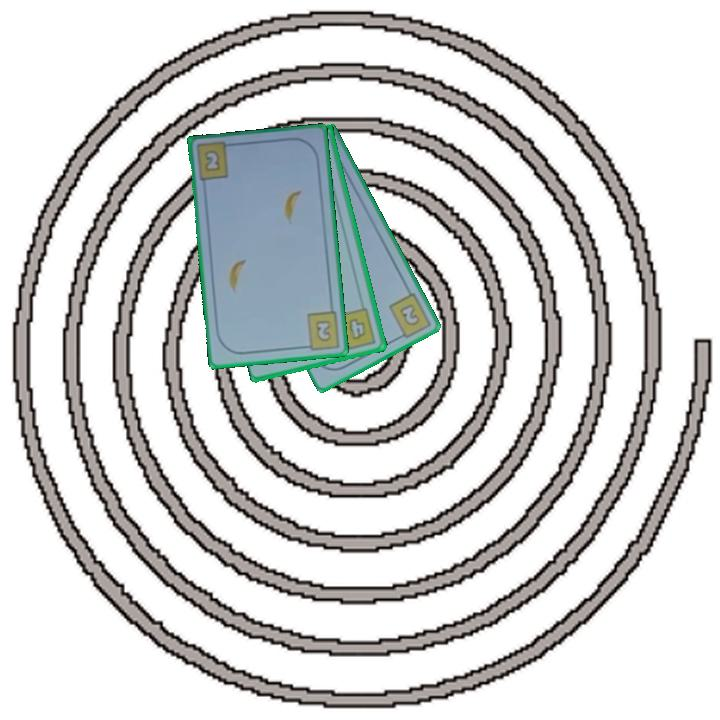2b: (385, 289, 434, 343), (298, 308, 343, 352), (201, 146, 223, 175)
4b: (336, 304, 379, 352)
